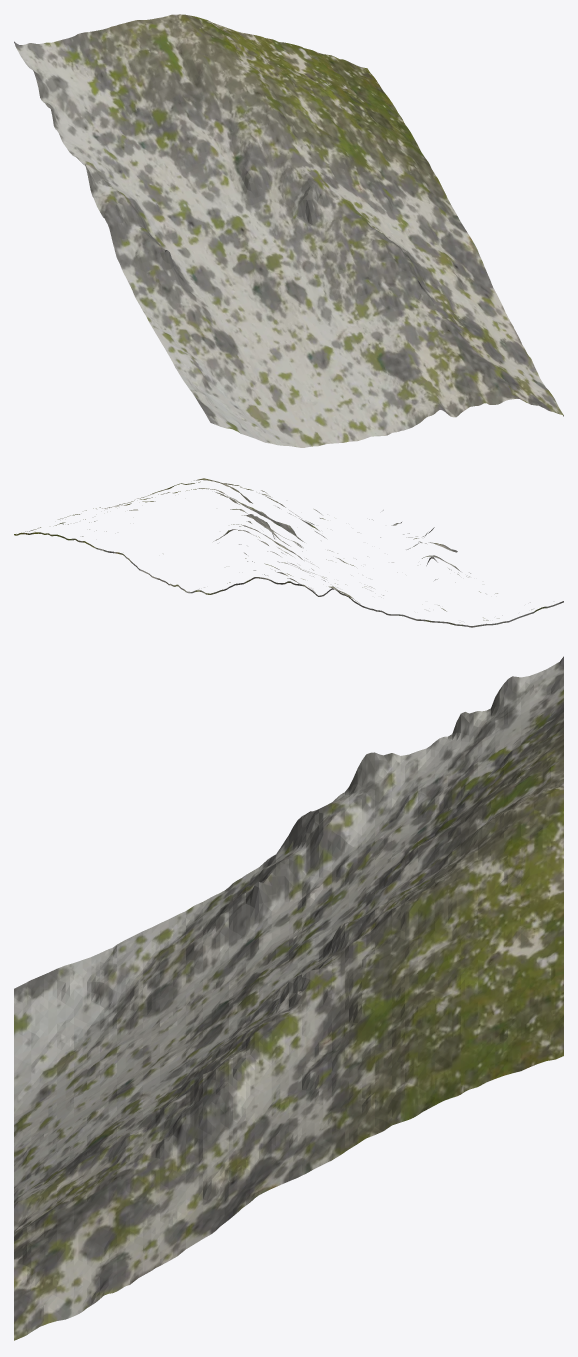
3 views of the same model, one above another, from view 1: azimuth 30°, elevation 25°; view 2: azimuth 150°, elevation 25°; view 3: azimuth 270°, elevation 25° (orthographic). The views are drawn at different scales.
Bounding box in the file's own units: 250 × 215 × 241.
Materials: 1 (1 with a texture image).
